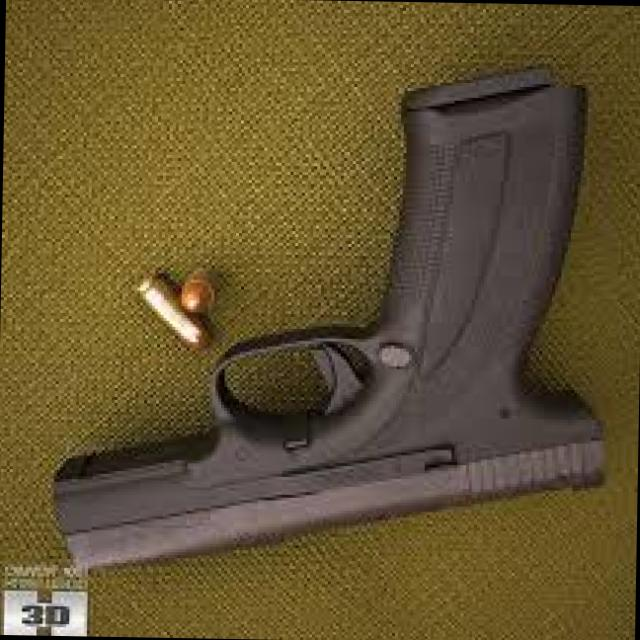Gun: (33, 38, 614, 588)
